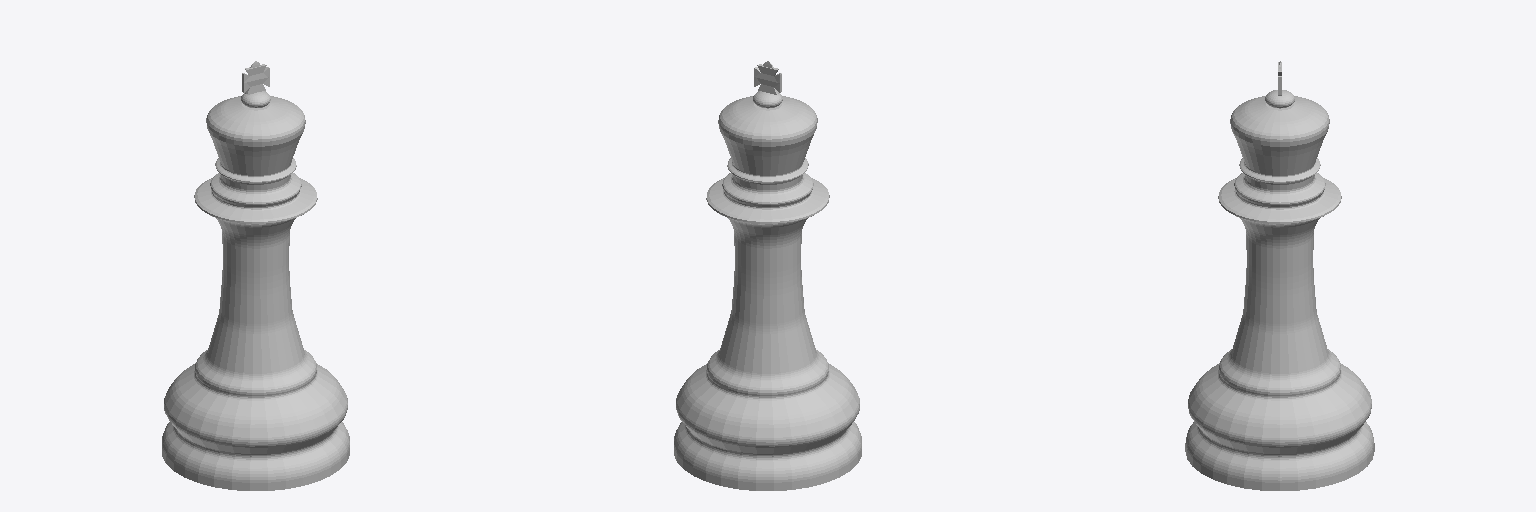
Rendered from king.obj.
The picture shows the model from 3 angles: view 1: azimuth 30°, elevation 25°; view 2: azimuth 150°, elevation 25°; view 3: azimuth 270°, elevation 25°; orthographic projection.
Visible parts, largest first — view 1: Light_King; view 2: Light_King; view 3: Light_King.
Boxes of the visible parts, <box> form: Light_King: <box>162,61,349,490</box>; Light_King: <box>674,61,861,490</box>; Light_King: <box>1185,61,1374,490</box>.
Size of the model in its own units: 1.4 by 3.18 by 1.4.